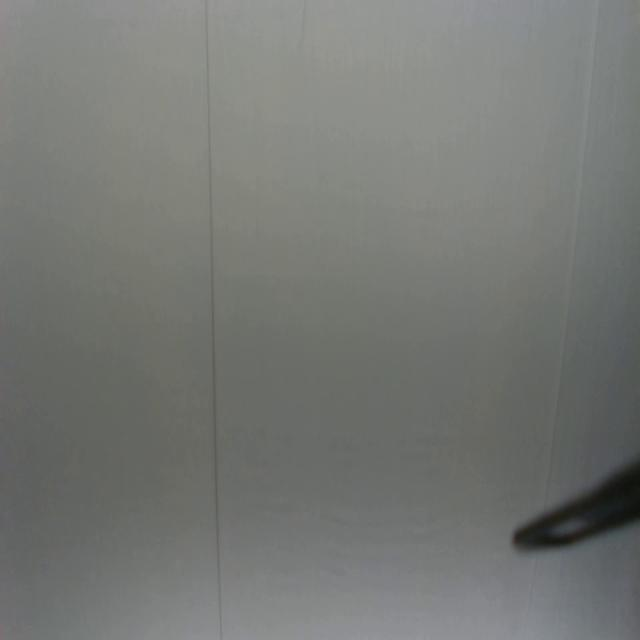crease: (547, 0, 602, 477), (205, 1, 225, 640)
